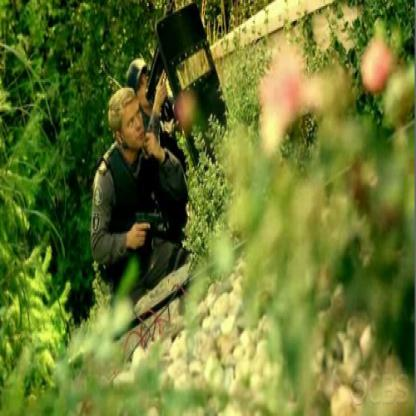Gun: (144, 0, 180, 128), (132, 208, 166, 242)
